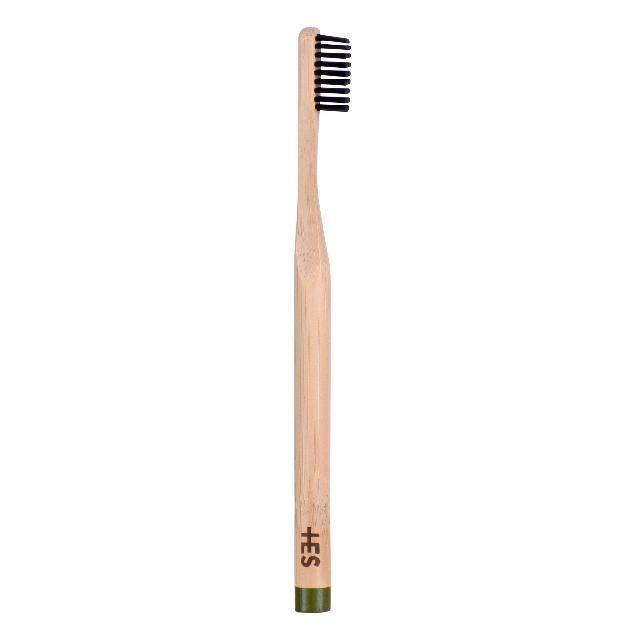toothbrush: (239, 8, 401, 640)
